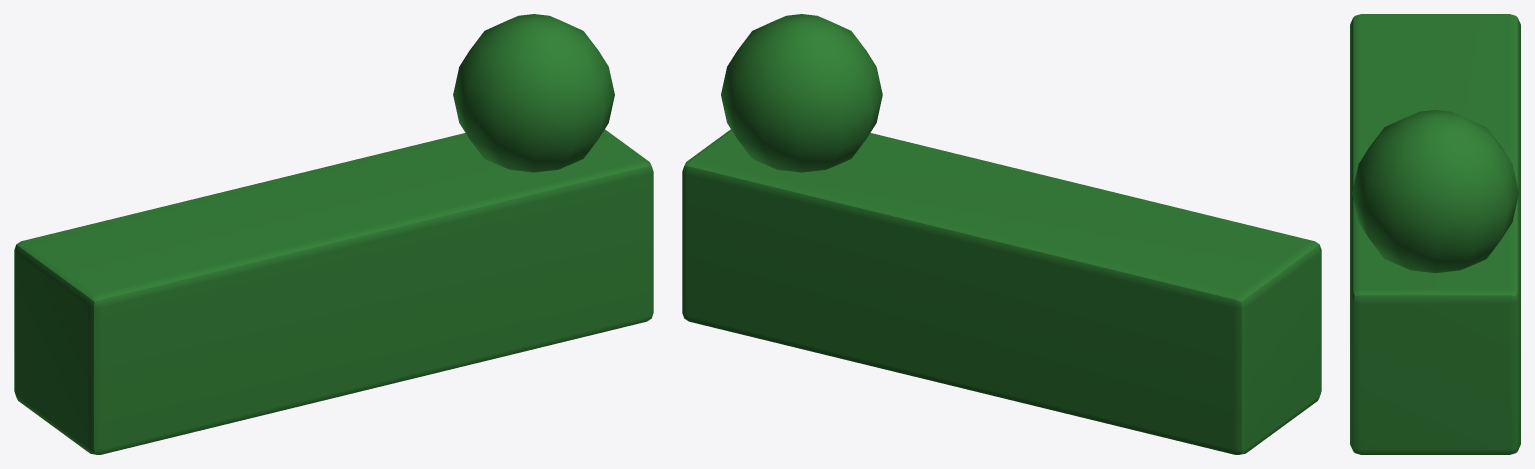
The picture shows the model from 3 angles, left to right: view 1: azimuth 30°, elevation 25°; view 2: azimuth 150°, elevation 25°; view 3: azimuth 270°, elevation 25°; orthographic projection. The views are drawn at different scales.
Parts seen in each view (by area): view 1: base_011; view 2: base_011; view 3: base_011.
Part boxes in pixels (left/top/right/bottom): base_011: left=14, top=14, right=653, bottom=454; base_011: left=682, top=14, right=1321, bottom=454; base_011: left=1350, top=14, right=1520, bottom=454.
Size of the model in its own units: 2260 by 1115 by 575.
1 material, 1 textured.
